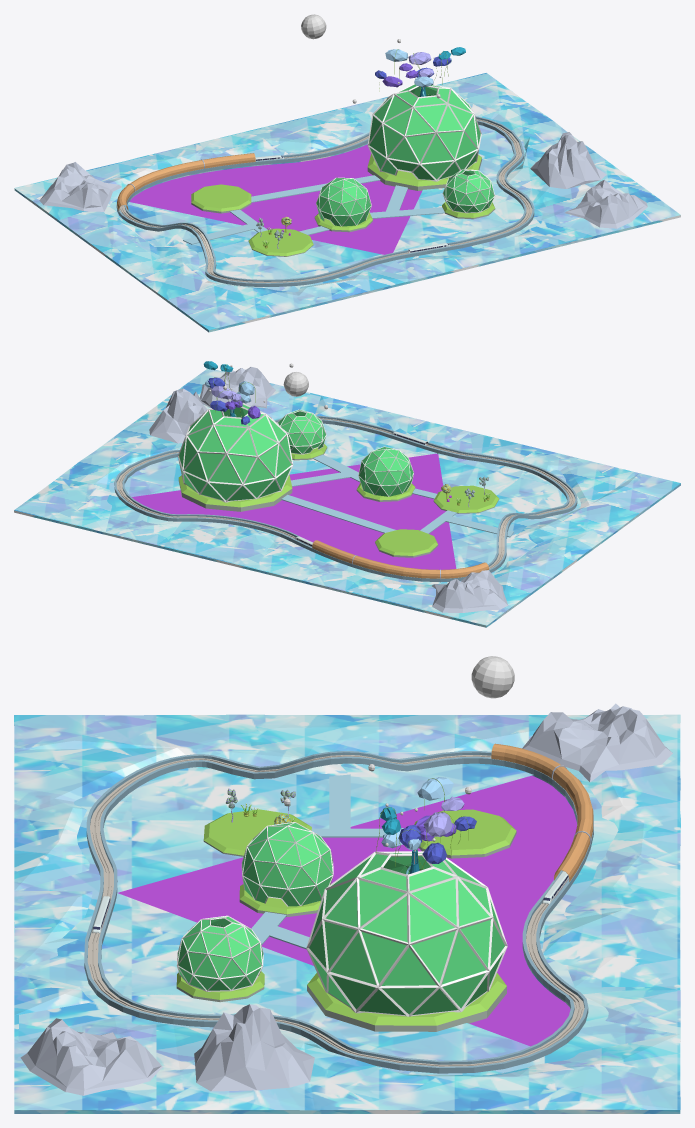
File: Park_1_D7.fbx
The picture shows the model from 3 angles, top to bottom: view 1: azimuth 30°, elevation 25°; view 2: azimuth 150°, elevation 25°; view 3: azimuth 270°, elevation 25°; orthographic projection. The views are drawn at different scales.
Parts seen in each view (by area): view 1: Plane.1769; view 2: Plane.1769; view 3: Plane.1769.
Part boxes in pixels (x1,y1,x2,y2): Plane.1769: (14, 14, 680, 332); Plane.1769: (14, 361, 680, 627); Plane.1769: (14, 656, 680, 1113).
Size of the model in its own units: 29837 by 9317 by 21244.
Materials: 17 (9 with a texture image).
